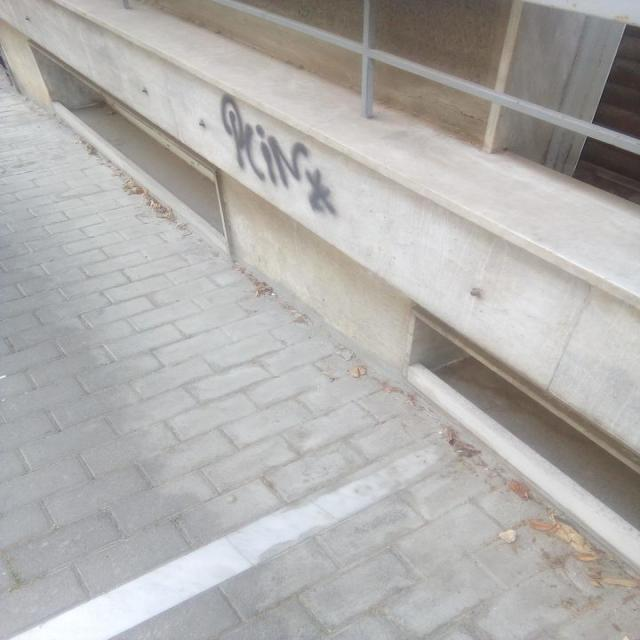nonspitting: (218, 92, 334, 215)
